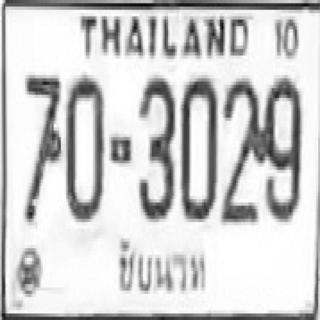N00: (64, 72, 103, 219), (180, 75, 215, 219)
N02: (219, 77, 262, 220)
N03: (138, 75, 173, 219)
N07: (22, 70, 60, 220)
N09: (261, 75, 300, 219)
P08: (112, 229, 212, 300)
